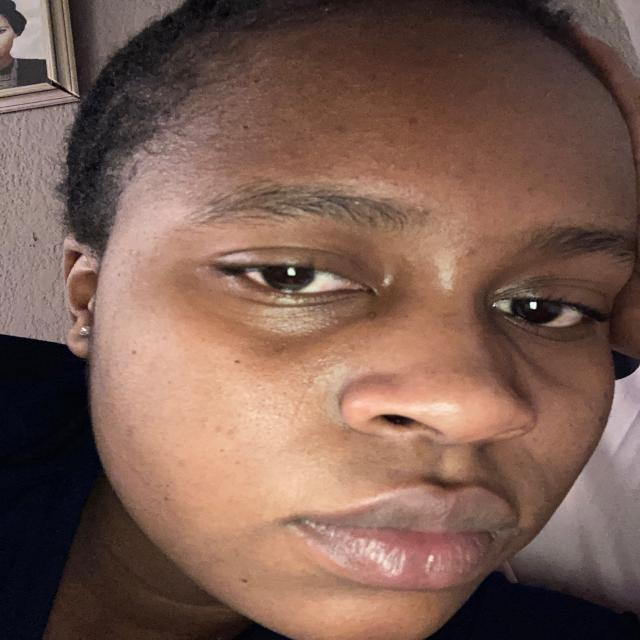Acne: (210, 88, 280, 152), (217, 561, 294, 607), (374, 88, 436, 143), (344, 304, 410, 350), (208, 344, 260, 392)
